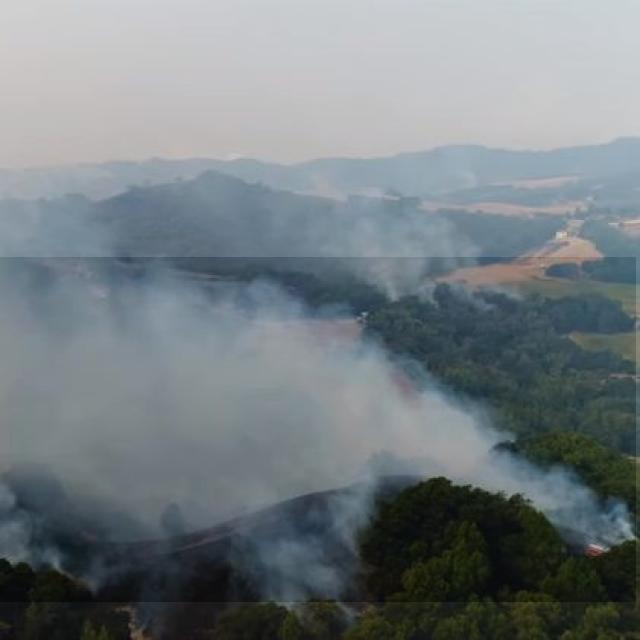Smoke: (0, 257, 636, 602)
